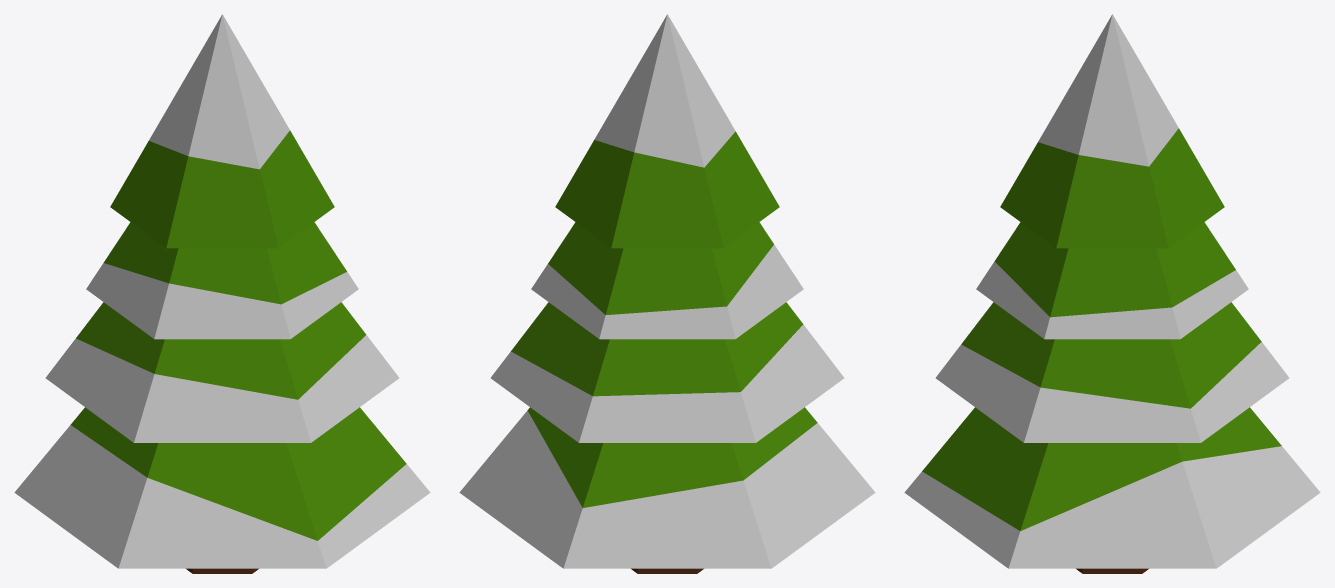
The model's file is PineTree1PartialSnow.fbx.
The picture shows the model from 3 angles, left to right: view 1: azimuth 30°, elevation 25°; view 2: azimuth 150°, elevation 25°; view 3: azimuth 270°, elevation 25°; orthographic projection.
Visible parts, largest first — view 1: Cylinder; view 2: Cylinder; view 3: Cylinder.
Boxes of the visible parts, x1,y1,x2,y2 form: Cylinder: (14,14,430,573); Cylinder: (459,14,875,573); Cylinder: (904,14,1320,573).
Size of the model in its own units: 3.94 by 6.49 by 4.55.
